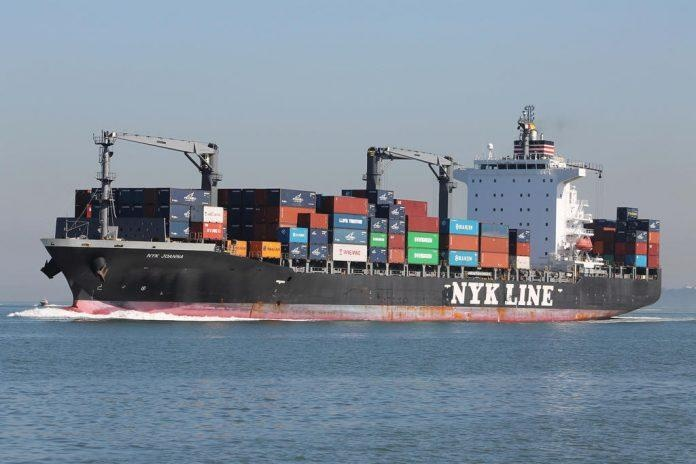Cargoship: (29, 96, 661, 321)
